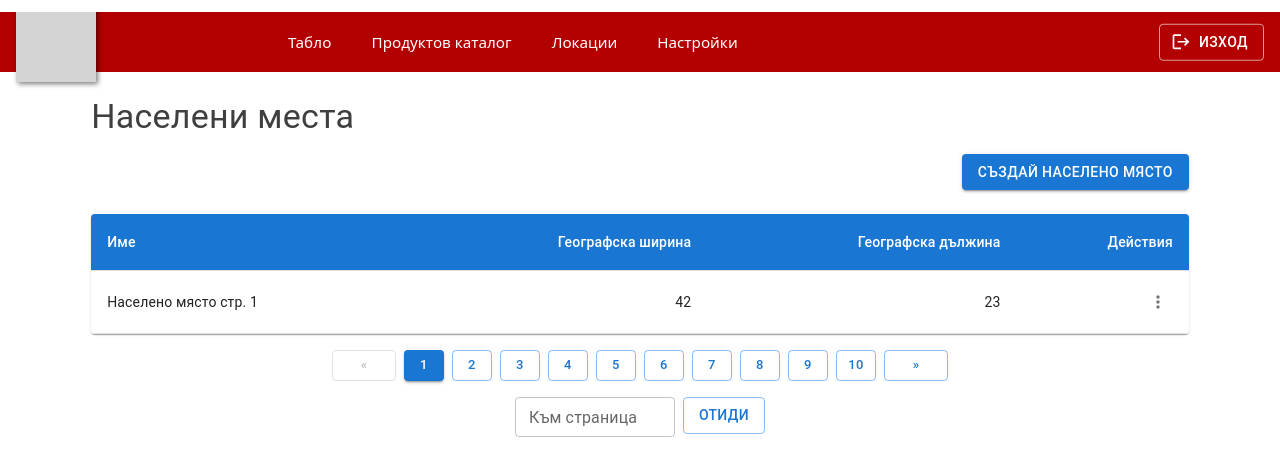
it: Settlements page › goes to the last page via the end button
Expected: the button named "Страница 10" is shown, [836,350,876,381]
Click the button named "Последна страница": point(916, 366) [884,350,948,381]
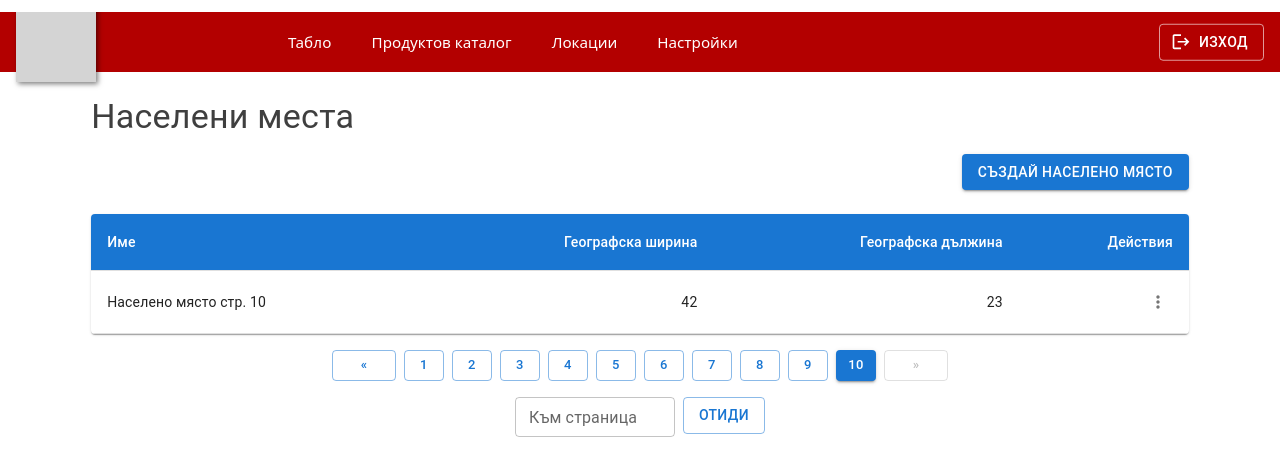
Now the text "Населено място стр. 10" is shown, box [91,271,424,334]
